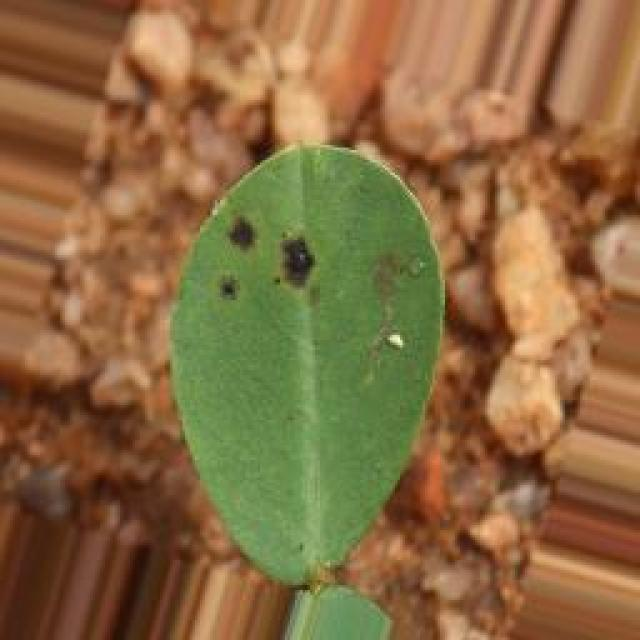Yellowish: (158, 166, 338, 347), (351, 243, 444, 408)
